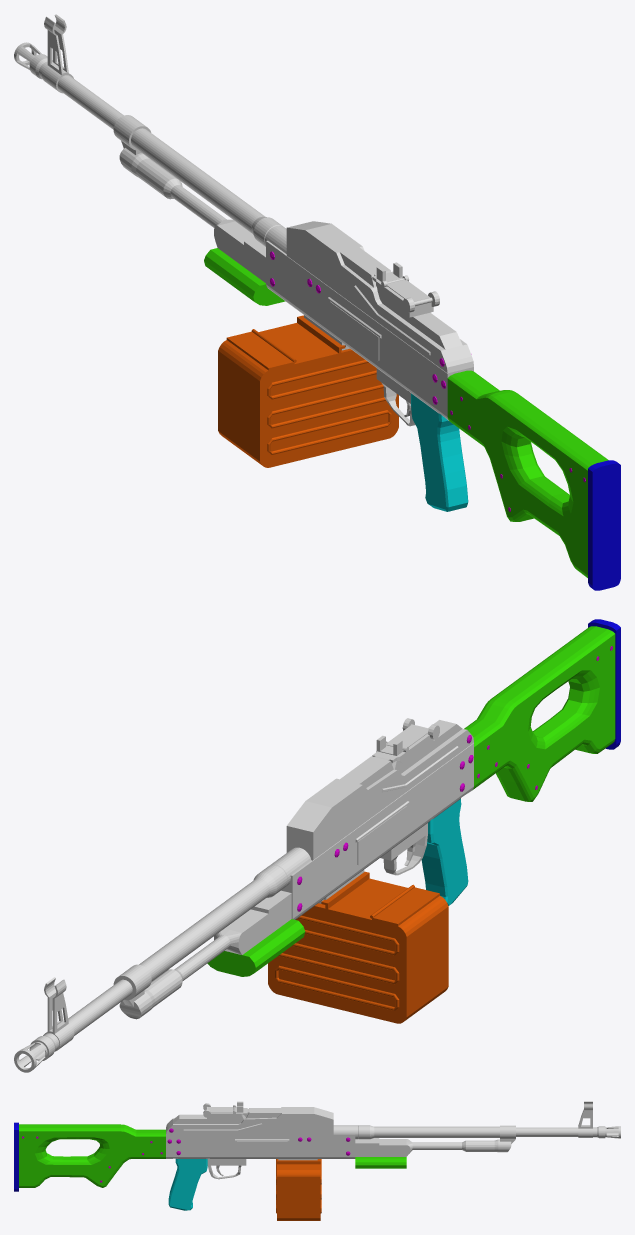
3 renders of one model, top to bottom at view 1: azimuth 30°, elevation 25°; view 2: azimuth 150°, elevation 25°; view 3: azimuth 270°, elevation 25°, orthographic. The views are drawn at different scales.
Visible parts, largest first — view 1: Cylinder; view 2: Cylinder; view 3: Cylinder.
Part boxes in pixels (x1=…): Cylinder: x1=14, y1=14, x2=620, y2=590; Cylinder: x1=14, y1=619, x2=620, y2=1072; Cylinder: x1=14, y1=1101, x2=620, y2=1220.
Size of the model in its own units: 10.07 by 73.15 by 14.53.
